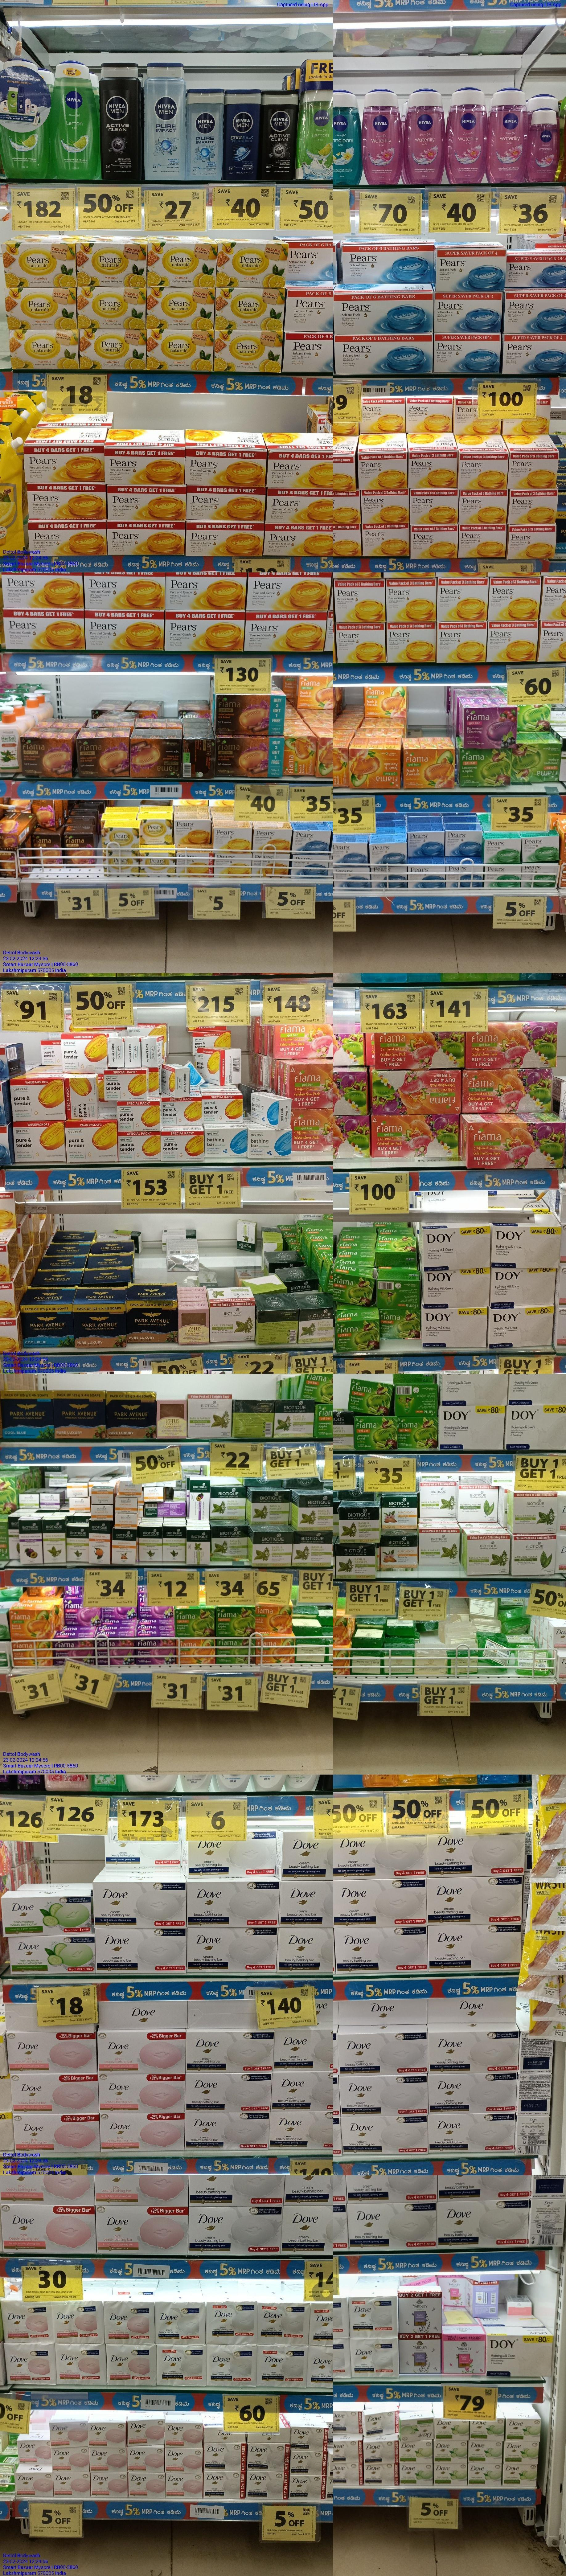Nivea_Shower_Gel_Frangipani_and_Oil_250ML: (334, 89, 362, 187)
Nivea_Shower_Gel_Lemon_and_Oil_250ML: (51, 59, 99, 181), (299, 90, 334, 181)
Nivea_Shower_Gel_Waterlily_and_Oil_250ML: (403, 85, 444, 186), (444, 85, 485, 182), (364, 85, 403, 186), (487, 87, 527, 181), (527, 108, 558, 182)
